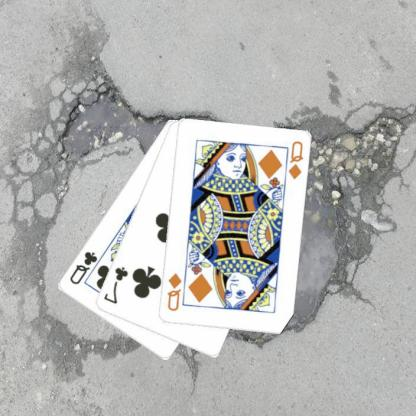7C: (102, 264, 131, 306)
QC: (68, 249, 100, 286)
QD: (287, 139, 306, 182), (166, 270, 184, 312)
